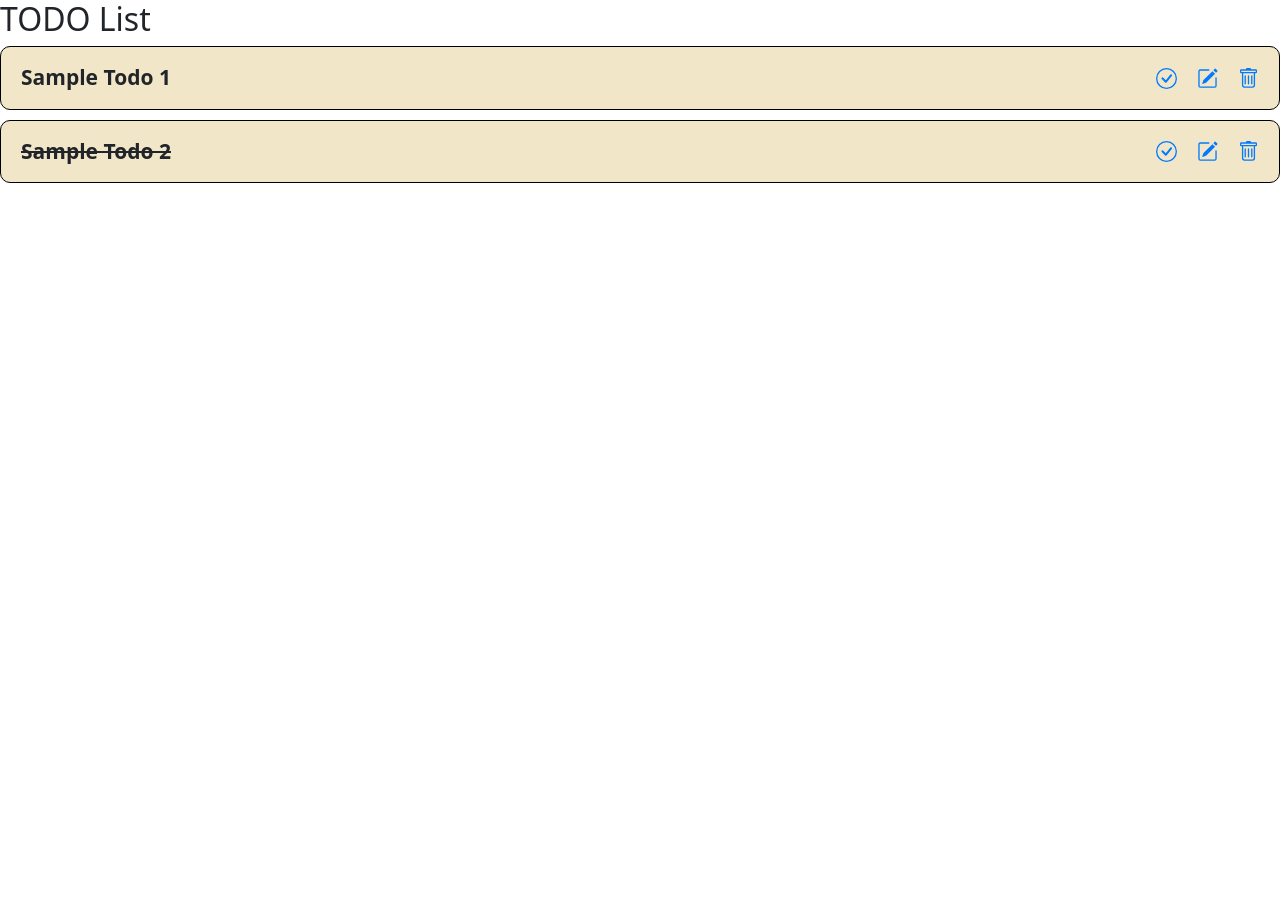
Test: TodoList Component › opens modal with current TODO text when edit button is clicked
Click the icon named "edit" in the row of "Sample Todo 1" at [1208, 78], box [1197,68,1218,89]
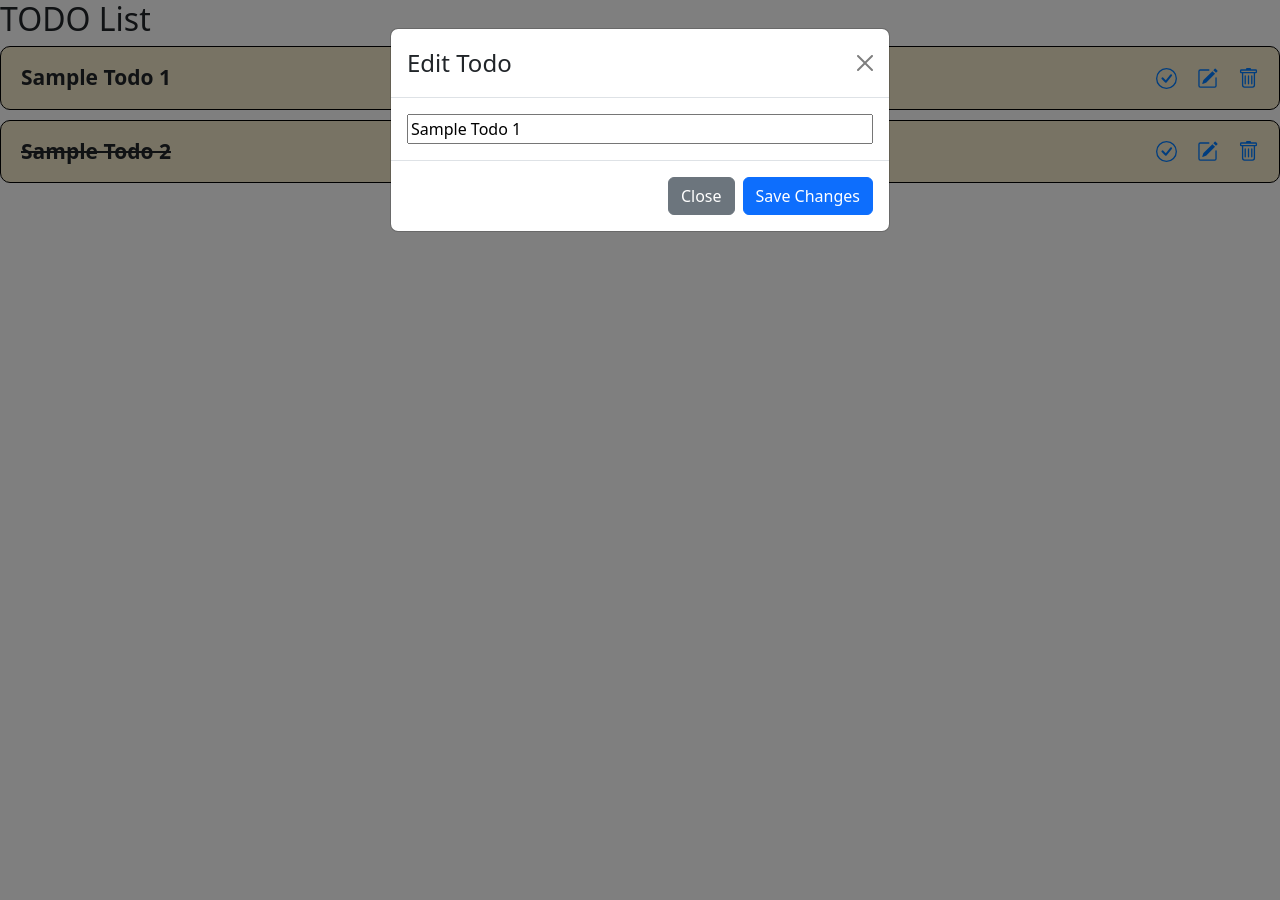
Check: the field showing "Sample Todo 1" is shown, box [407,114,873,144]
